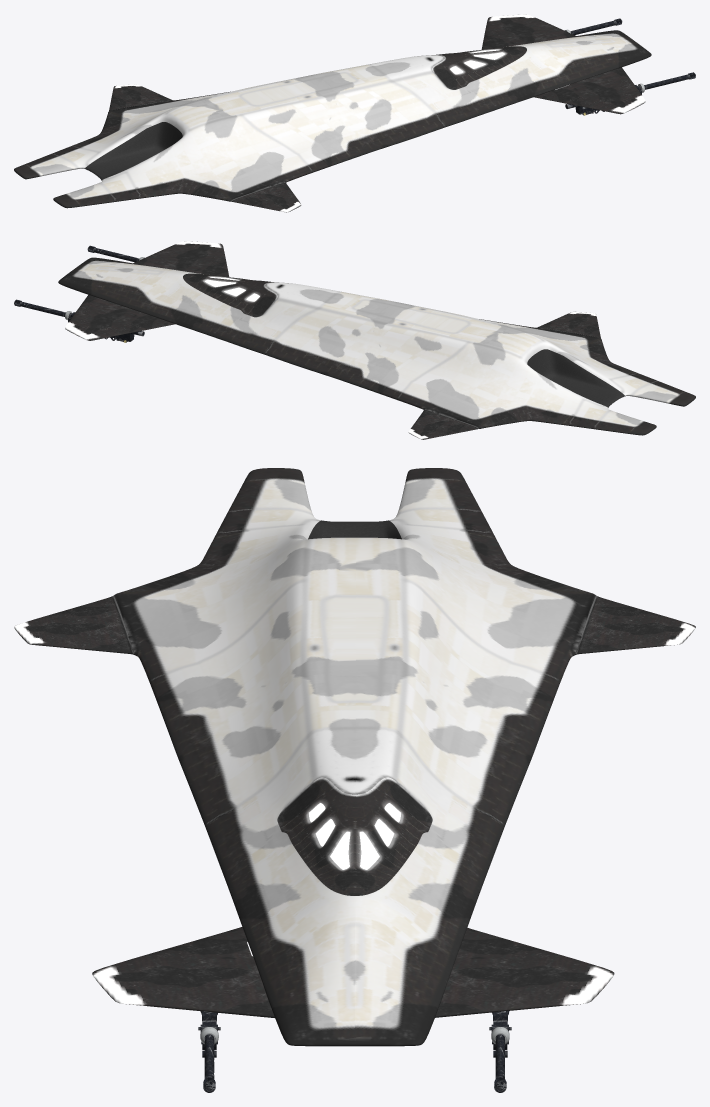
The model's file is shuttle-low-british.glb.
3 views of the same model, one above another, from view 1: azimuth 30°, elevation 25°; view 2: azimuth 150°, elevation 25°; view 3: azimuth 270°, elevation 25° (orthographic). The views are drawn at different scales.
Parts seen in each view (by area): view 1: Plane_retopo_Material_0.003, Plane_retopo, Plane_retopo_Material_0.002, Plane_retopo_Material_0.001, Barrel_low; view 2: Plane_retopo, Plane_retopo_Material_0.003, Plane_retopo_Material_0.001, Plane_retopo_Material_0.002, Barrel_low; view 3: Plane_retopo_Material_0.003, Plane_retopo, Plane_retopo_Material_0.002, Plane_retopo_Material_0.001, Barrel_low.
Part boxes in pixels (x1,y1,x2,y2): Plane_retopo_Material_0.003: (53, 40, 651, 212); Plane_retopo: (14, 30, 633, 179); Plane_retopo_Material_0.002: (534, 67, 645, 114); Plane_retopo_Material_0.001: (481, 14, 575, 49); Barrel_low: (565, 18, 695, 115); Plane_retopo: (58, 267, 656, 439); Plane_retopo_Material_0.003: (75, 257, 695, 406); Plane_retopo_Material_0.001: (65, 295, 175, 340); Plane_retopo_Material_0.002: (133, 241, 229, 277); Barrel_low: (14, 245, 144, 342); Plane_retopo_Material_0.003: (14, 468, 356, 1046); Plane_retopo: (354, 468, 695, 1046); Plane_retopo_Material_0.002: (92, 927, 274, 1017); Plane_retopo_Material_0.001: (435, 928, 614, 1017); Barrel_low: (198, 1011, 511, 1092).
Size of the model in its own units: 37.18 by 3.51 by 17.93.
Materials: 2 (2 with a texture image).
